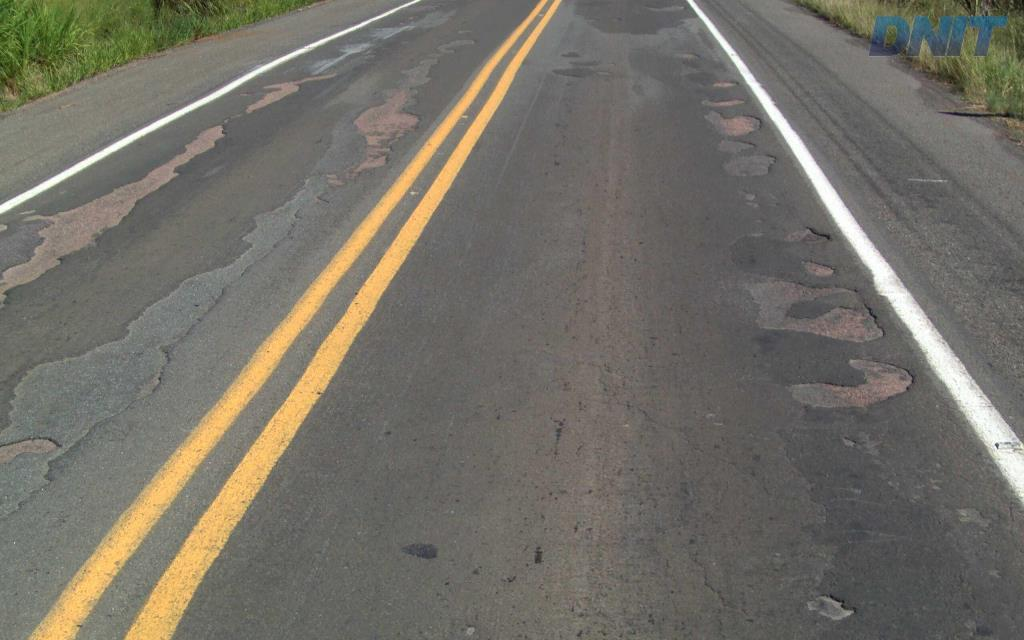pothole: (732, 256, 886, 344), (775, 352, 918, 414), (799, 583, 859, 623), (714, 154, 784, 184), (701, 110, 769, 137), (787, 226, 834, 251), (713, 139, 765, 153), (696, 95, 746, 107), (834, 432, 859, 450), (700, 77, 739, 87)
